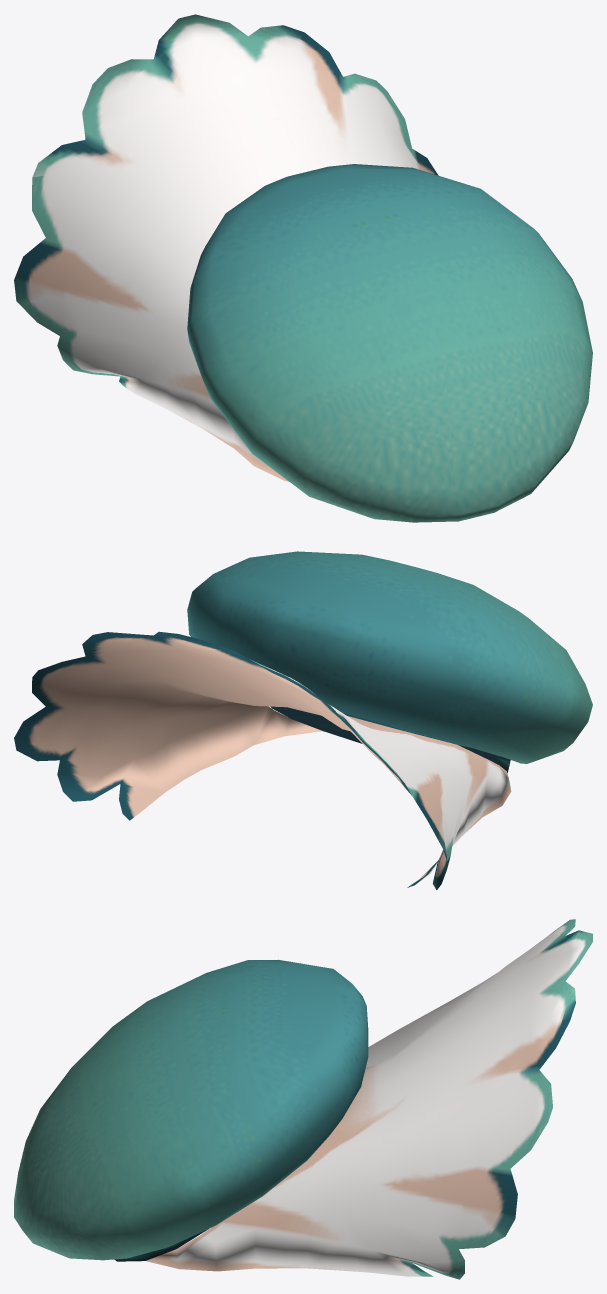
The model's file is GrassWonderAltHatGround.fbx.
The picture shows the model from 3 angles, top to bottom: view 1: azimuth 30°, elevation 25°; view 2: azimuth 150°, elevation 25°; view 3: azimuth 270°, elevation 25°; orthographic projection.
Visible parts, largest first — view 1: M_Tail.002; view 2: M_Tail.002; view 3: M_Tail.002.
Part boxes in pixels (x1,y1,x2,y2): M_Tail.002: [14, 14, 592, 522]; M_Tail.002: [14, 551, 592, 889]; M_Tail.002: [14, 919, 592, 1279].
Size of the model in its own units: 0.2484 by 0.1714 by 0.2949.
